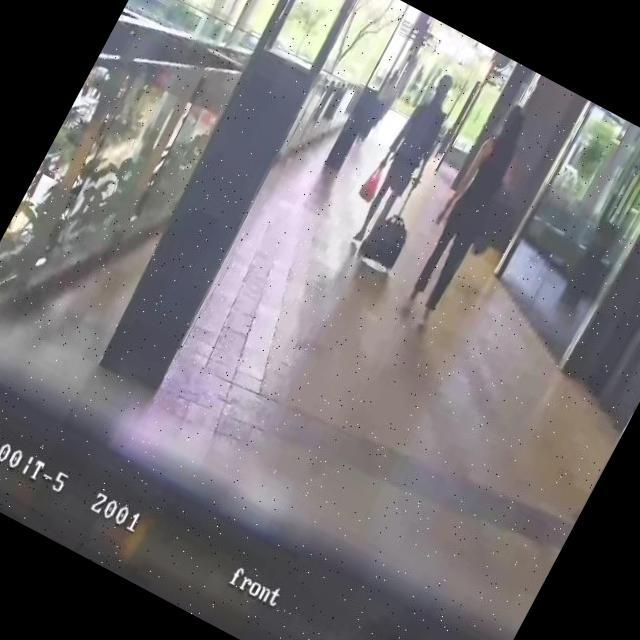person: (394, 94, 551, 324), (341, 65, 471, 256)
